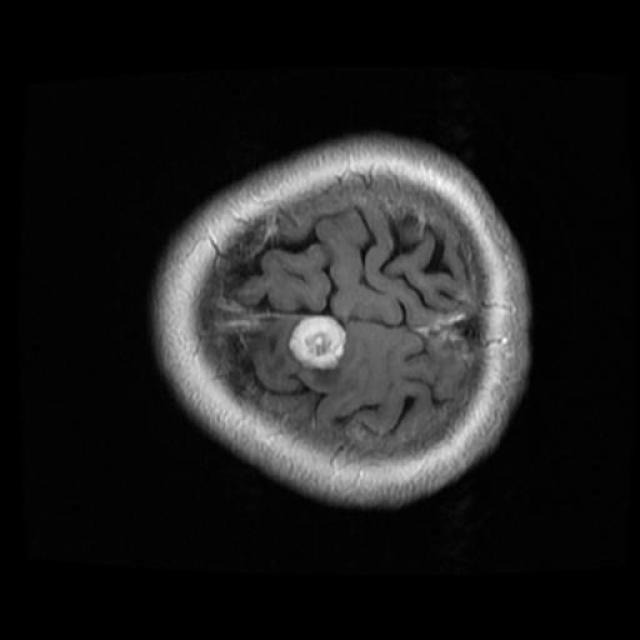Meningioma: (288, 316, 344, 368)
